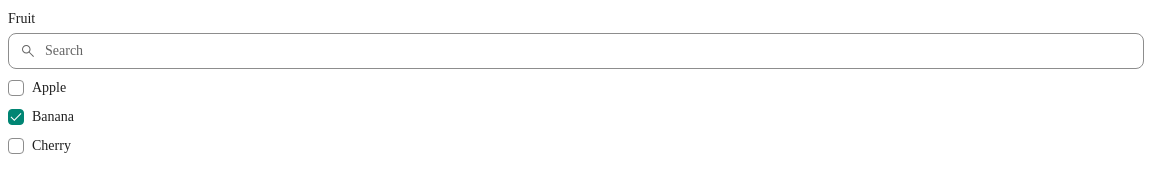
keeps selection hidden by filter
The image size is (1152, 171).
Type "app" into the search field labelled "Fruit" at (576, 51), box [8, 33, 1144, 69]
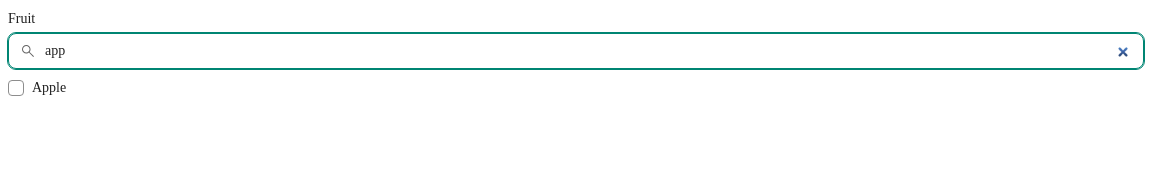
expect the label "Banana" is gone: met
Clear the search field labelled "Fruit" at (576, 51), box [8, 33, 1144, 69]
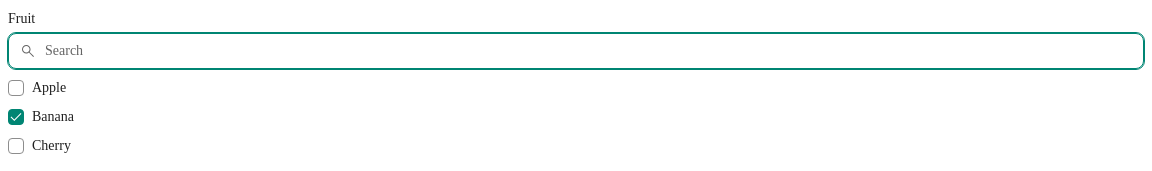
expect the checkbox labelled "Banana" is checked: met, box [8, 108, 24, 124]
